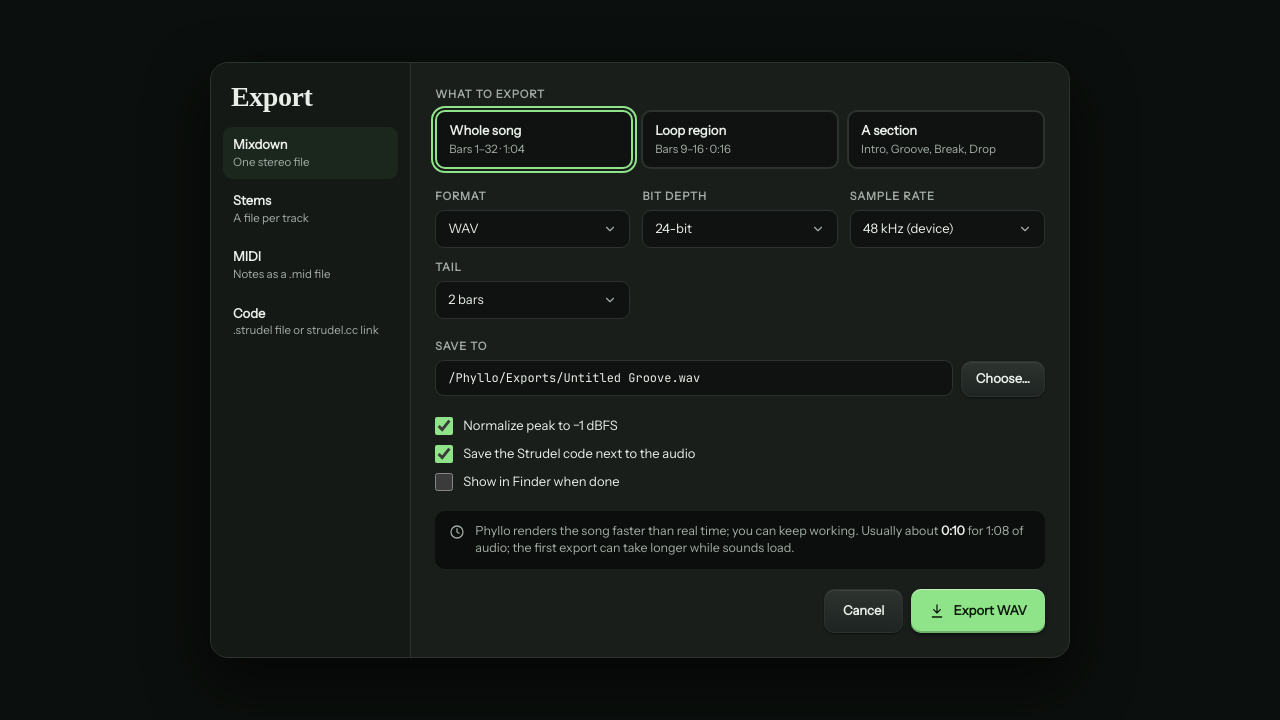
Test: ExportDialog › should take a free name for the default mixdown file instead of replacing one
Step 1. Click the button "Mixdown One stereo file" → point(311, 153), box left=223, top=127, right=398, bottom=179
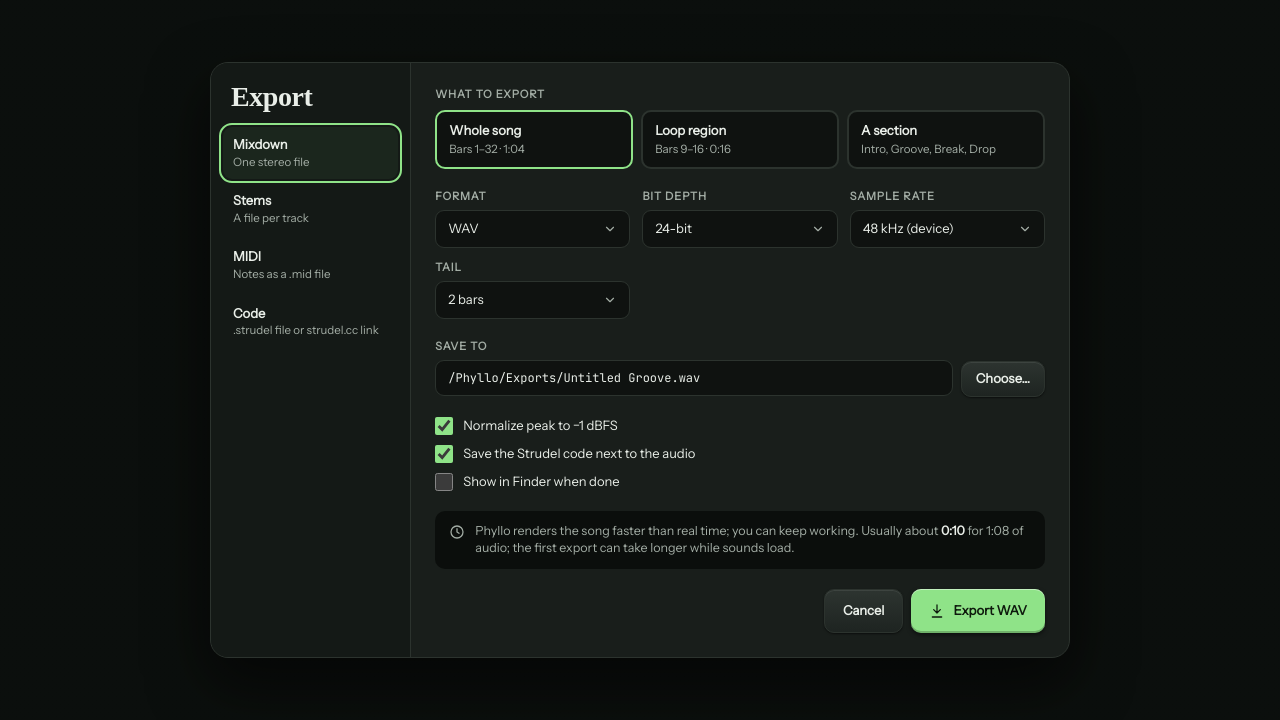
Step 2. Click the button "Export WAV" → point(978, 611), box left=912, top=589, right=1045, bottom=633
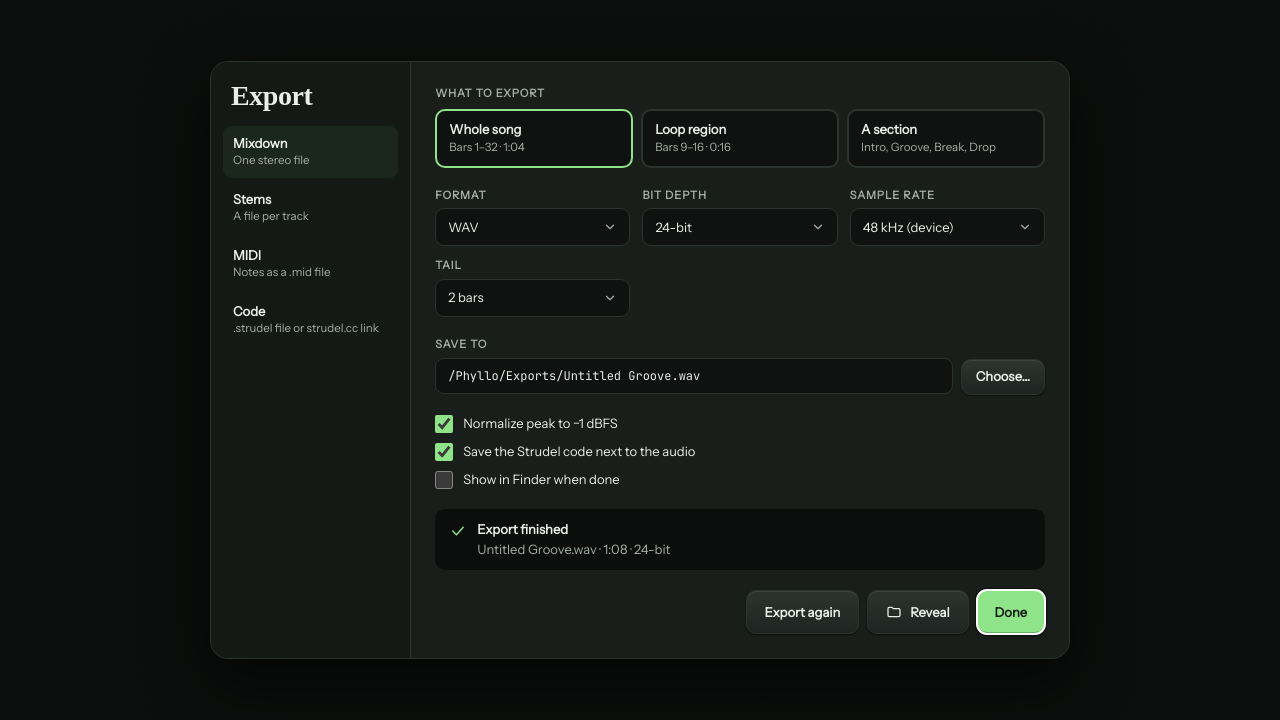
Expected: the message "Export finished Untitled Groove.wav · 1:08 · 24-bit" is shown, left=435, top=509, right=1045, bottom=570
